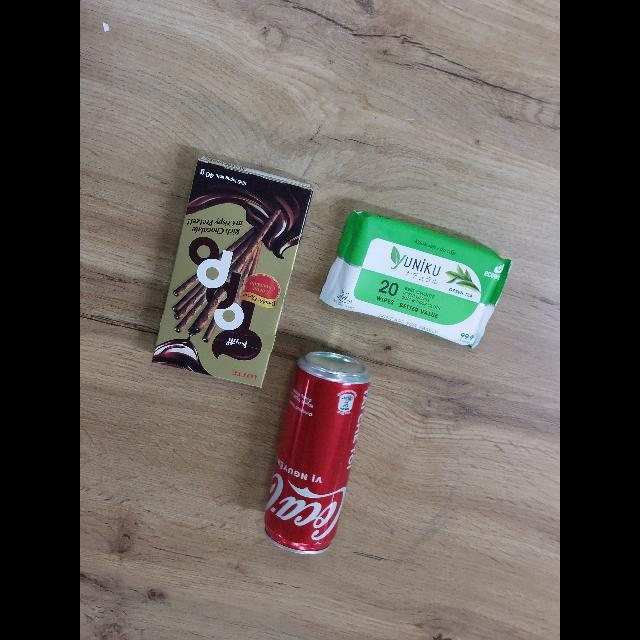banh_toppo_socola: (152, 159, 313, 387)
coca_cola: (263, 349, 370, 554)
khan_giay: (321, 207, 512, 348)
